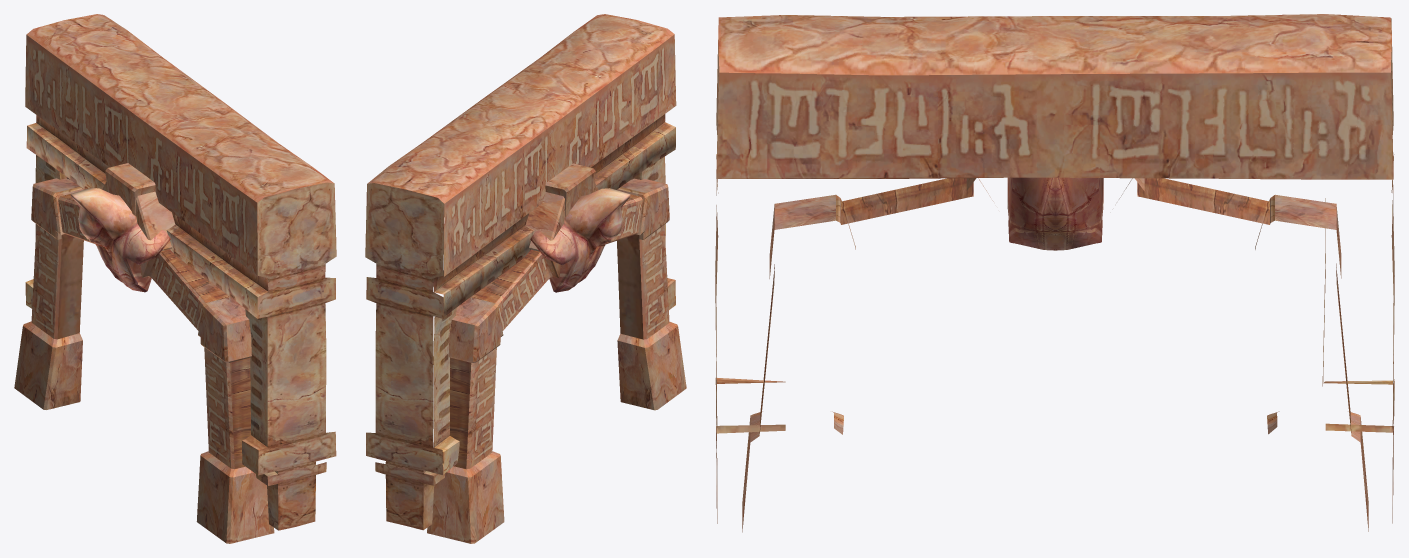
The model's file is kor_vod_ruins_walldoor.glb.
The picture shows the model from 3 angles, left to right: view 1: azimuth 30°, elevation 25°; view 2: azimuth 150°, elevation 25°; view 3: azimuth 270°, elevation 25°; orthographic projection. The views are drawn at different scales.
Parts seen in each view (by area): view 1: kor_vod_ruins_walldoor; view 2: kor_vod_ruins_walldoor; view 3: kor_vod_ruins_walldoor.
Boxes of the visible parts, x1,y1,x2,y2 form: kor_vod_ruins_walldoor: (14, 14, 336, 543); kor_vod_ruins_walldoor: (365, 14, 686, 543); kor_vod_ruins_walldoor: (715, 14, 1394, 532).
Size of the model in its own units: 0.7348 by 1.66 by 2.
2 materials, 2 textured.
